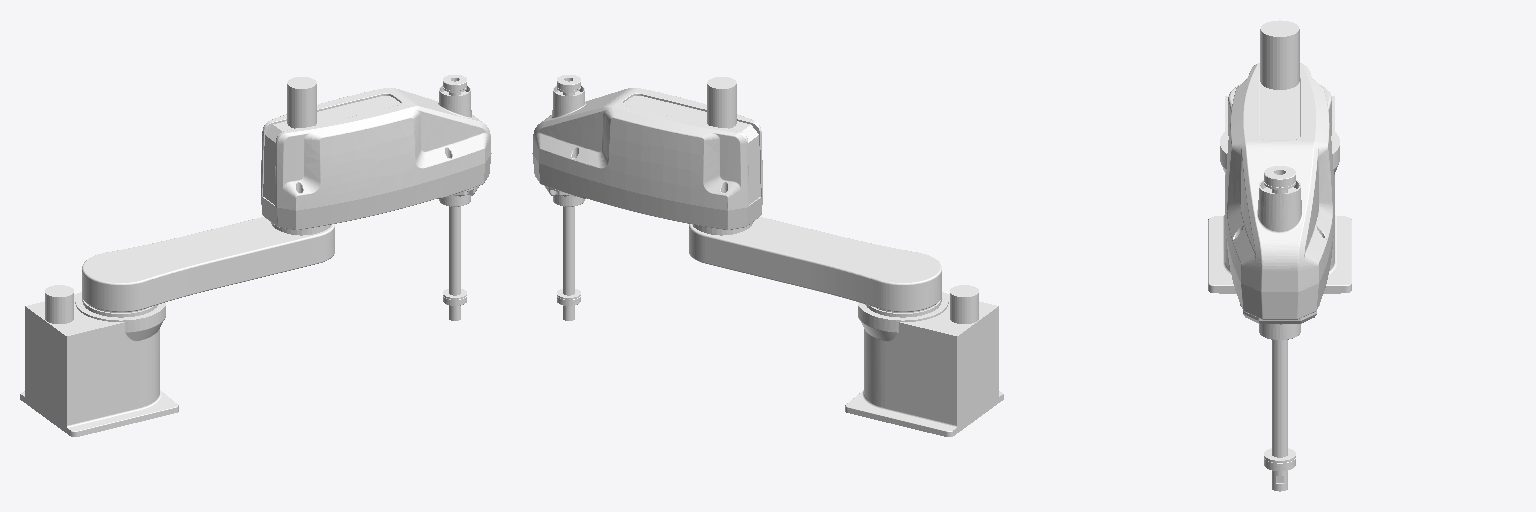
The robot description file, URDF, robot "rh6crh6020":
<?xml version="1.0" ?>
<robot name="rh6crh6020">
  <material name="white">
    <color rgba="1.0 1.0 1.0 1.0"/>
  </material>
  <link name="world"/>
  <link name="rh6crh6020_base">
    <visual>
      <material name="white"/>
      <origin rpy="0 0 0" xyz="0 0 0"/>
      <geometry>
        <mesh filename="package://melfa_description/meshes/rh6crh6020/base.STL"/>
      </geometry>
    </visual>
    <collision>
      <origin rpy="0 0 0" xyz="0 0 0"/>
      <geometry>
        <mesh filename="package://melfa_description/meshes/rh6crh6020/base.STL"/>
      </geometry>
    </collision>
  </link>
  <link name="rh6crh6020_no1arm">
    <visual>
      <material name="white"/>  
      <origin rpy="0 0 0" xyz="0 0 0"/>
      <geometry>
        <mesh filename="package://melfa_description/meshes/rh6crh6020/no1arm.STL"/>
      </geometry>
    </visual>
    <collision>
      <origin rpy="0 0 0" xyz="0 0 0"/>
      <geometry>
        <mesh filename="package://melfa_description/meshes/rh6crh6020/no1arm.STL"/>
      </geometry>
    </collision>
  </link>
  <link name="rh6crh6020_no2arm">
    <visual>
      <material name="white"/>
      <origin rpy="0 0 0" xyz="0 0 0"/>
      <geometry>
        <mesh filename="package://melfa_description/meshes/rh6crh6020/no2arm.STL"/>
      </geometry>
    </visual>
    <collision>
      <origin rpy="0 0 0" xyz="0 0 0"/>
      <geometry>
        <mesh filename="package://melfa_description/meshes/rh6crh6020/no2arm.STL"/>
      </geometry>
    </collision>
  </link>
  <link name="rh6crh6020_shaft_z"/>
  <link name="rh6crh6020_shaft">
    <visual>
      <material name="white"/>
      <origin rpy="0 0 0" xyz="0 0 0"/>
      <geometry>
        <mesh filename="package://melfa_description/meshes/rh6crh6020/shaft.STL"/>
      </geometry>
    </visual>
    <collision>
      <origin rpy="0 0 0" xyz="0 0 0"/>
      <geometry>
        <mesh filename="package://melfa_description/meshes/rh6crh6020/shaft.STL"/>
      </geometry>
    </collision>
  </link>
  <link name="rh6crh6020_default_tcp"/>
  <joint name="rh6crh6020_world_to_base" type="fixed">
    <origin rpy="0 0 0" xyz="0.0 0.0 0.0"/>
    <parent link="world"/>
    <child link="rh6crh6020_base"/>
  </joint>
  <joint name="rh6crh6020_joint_1" type="revolute">
    <origin rpy="0 0 0" xyz="0.0 0.0 0.0"/>
    <parent link="rh6crh6020_base"/>
    <child link="rh6crh6020_no1arm"/>
    <axis xyz="0 0 1"/>
    <limit effort="1" lower="-2.303834612632515" upper="2.303834612632515" velocity="7.3303828583761845"/>
  </joint>
  <joint name="rh6crh6020_joint_2" type="revolute">
    <origin rpy="0 0 0" xyz="0.325 0.0 0.0"/>
    <parent link="rh6crh6020_no1arm"/>
    <child link="rh6crh6020_no2arm"/>
    <axis xyz="0 0 1"/>
    <limit effort="1" lower="-2.6179938779914944" upper="2.6179938779914944" velocity="12.566370614359172"/>
  </joint>
  <joint name="rh6crh6020_joint_3" type="prismatic">
    <origin rpy="0 0 0" xyz="0.275 0.0 0.0"/>
    <parent link="rh6crh6020_no2arm"/>
    <child link="rh6crh6020_shaft_z"/>
    <axis xyz="0 0 1"/>
    <limit effort="1" lower="-0.051" upper="0.149" velocity="1.1"/>
  </joint>
  <joint name="rh6crh6020_joint_4" type="revolute">
    <origin rpy="0 0 0" xyz="0.0 0.0 0.0"/>
    <parent link="rh6crh6020_shaft_z"/>
    <child link="rh6crh6020_shaft"/>
    <axis xyz="0 0 1"/>
    <limit effort="1" lower="-6.283185307179586" upper="6.283185307179586" velocity="43.63323129985824"/>
  </joint>
  <joint name="rh6crh6020_shift_to_default_tcp" type="fixed">
    <origin rpy="0 0 0" xyz="0.0 0.0 0.0"/>
    <parent link="rh6crh6020_shaft"/>
    <child link="rh6crh6020_default_tcp"/>
  </joint>
</robot>

--- What the picture shows (computed from the rendered views, not written in the file) ---
Views: 3 orthographic renders of the robot side by side, from view 1: azimuth 30°, elevation 25°; view 2: azimuth 150°, elevation 25°; view 3: azimuth 270°, elevation 25°.
Robot: rh6crh6020 — 7 links, 6 joints (3 revolute, 1 prismatic, 2 fixed); root link world; default pose: all joints at 0.
Links seen in each view (by area): view 1: rh6crh6020_no2arm, rh6crh6020_base, rh6crh6020_no1arm, rh6crh6020_shaft; view 2: rh6crh6020_no2arm, rh6crh6020_base, rh6crh6020_no1arm, rh6crh6020_shaft; view 3: rh6crh6020_no2arm, rh6crh6020_base, rh6crh6020_shaft.
Link boxes in pixels (x1,y1,x2,y2): rh6crh6020_no2arm: (261, 77, 491, 235); rh6crh6020_base: (20, 285, 178, 436); rh6crh6020_no1arm: (82, 217, 334, 311); rh6crh6020_shaft: (443, 75, 466, 320); rh6crh6020_no2arm: (532, 77, 762, 235); rh6crh6020_base: (845, 285, 1003, 436); rh6crh6020_no1arm: (689, 217, 941, 311); rh6crh6020_shaft: (557, 75, 580, 320); rh6crh6020_no2arm: (1225, 20, 1334, 339); rh6crh6020_base: (1208, 96, 1351, 293); rh6crh6020_shaft: (1264, 166, 1295, 491).
Size in the robot's own frame: 0.788 by 0.169 by 0.4685 metres.
4 mesh visuals loaded from 4 distinct referenced files (4 binary STL).